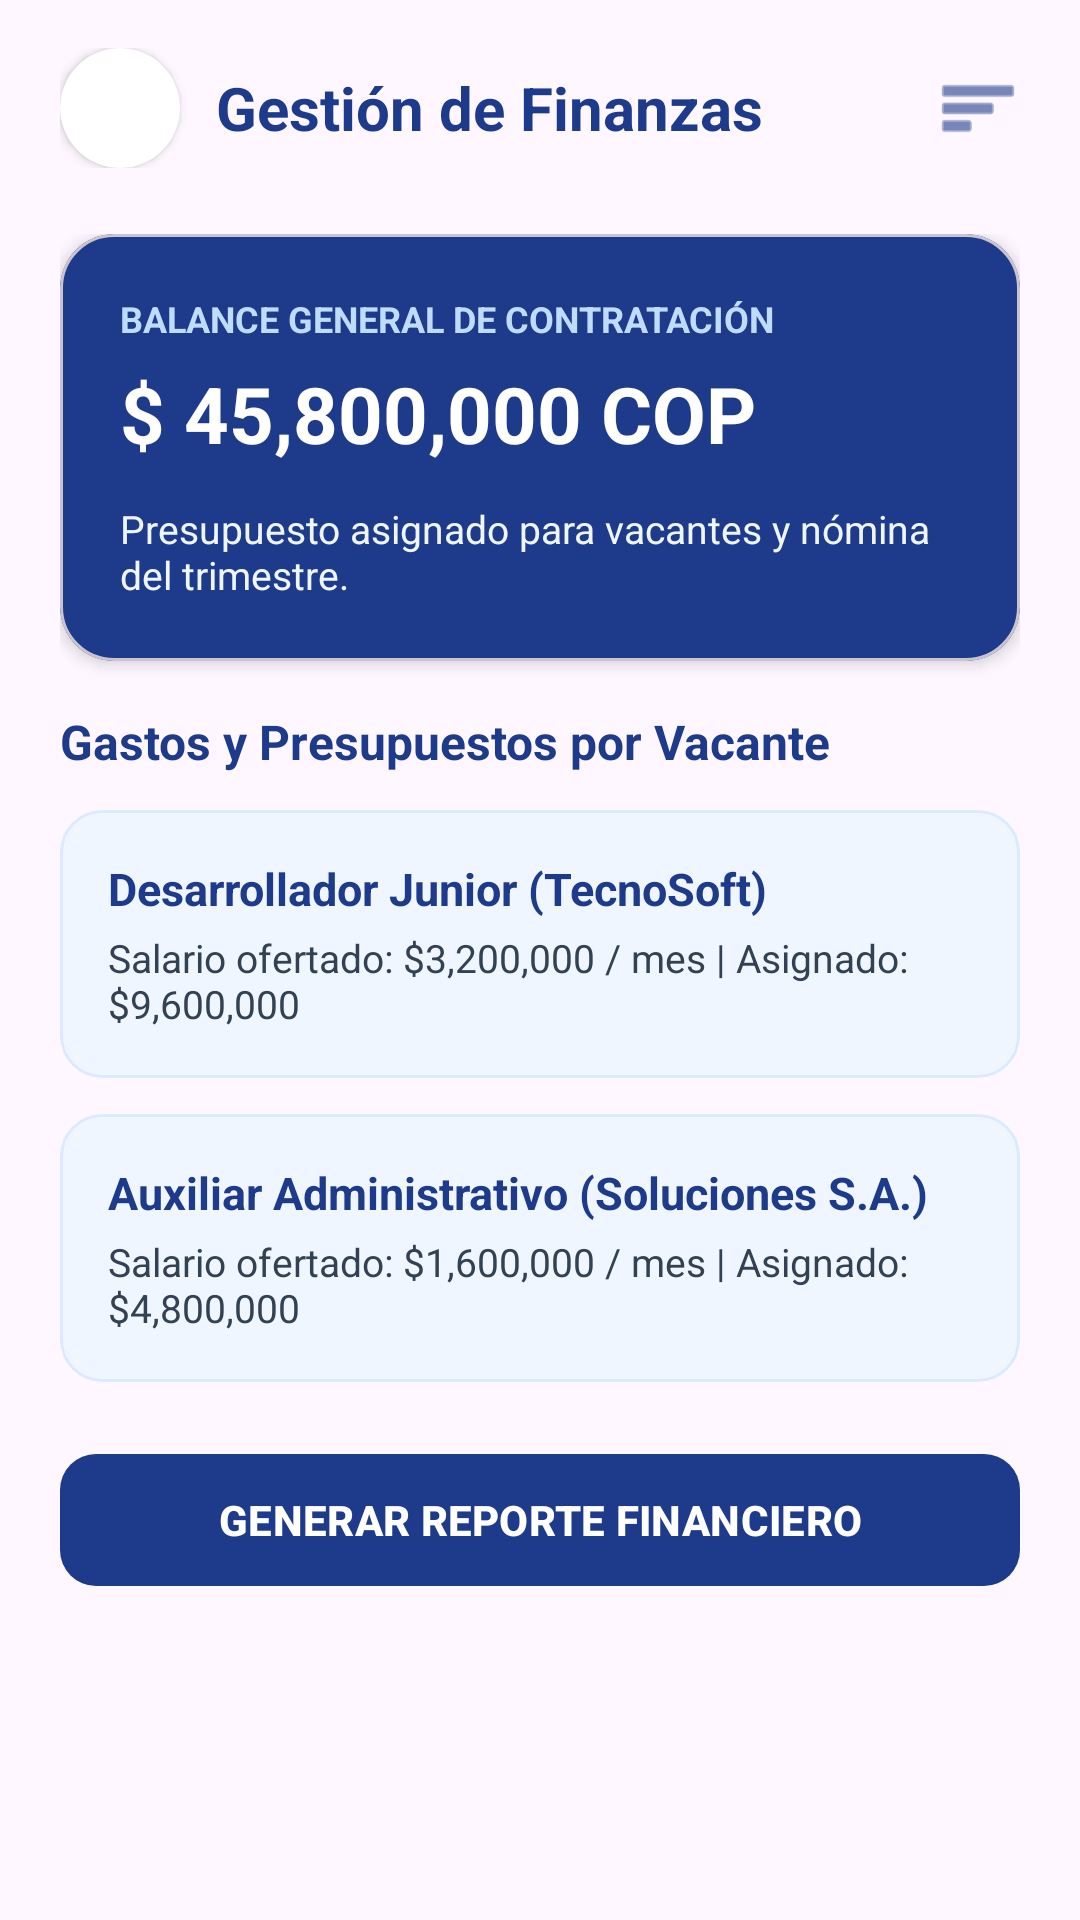

Screen size 1080x1920. Icon name, then its box in pixels as (x1, y1, x2, y2):
Menú: (942, 85, 1014, 132)
